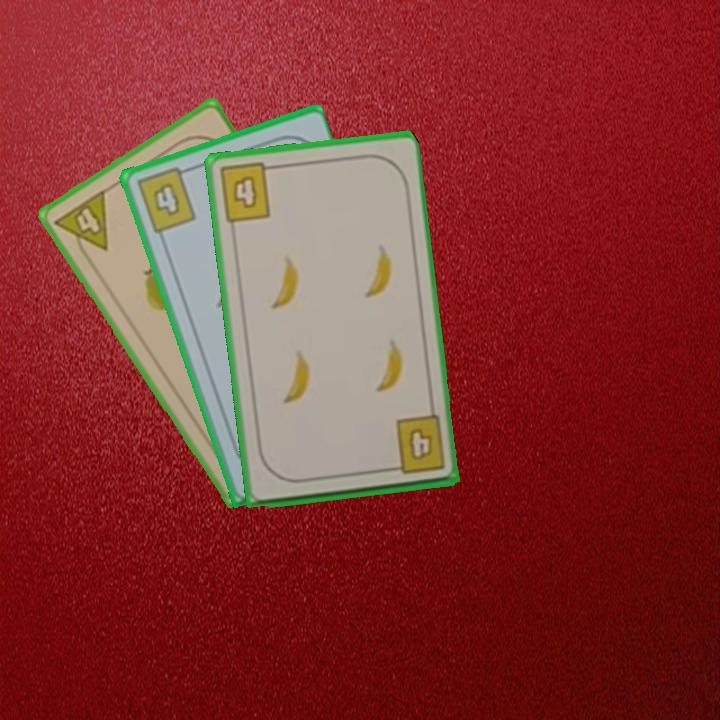4b: (132, 163, 199, 236), (383, 412, 448, 478), (215, 159, 279, 225)
4p: (50, 186, 111, 265)
